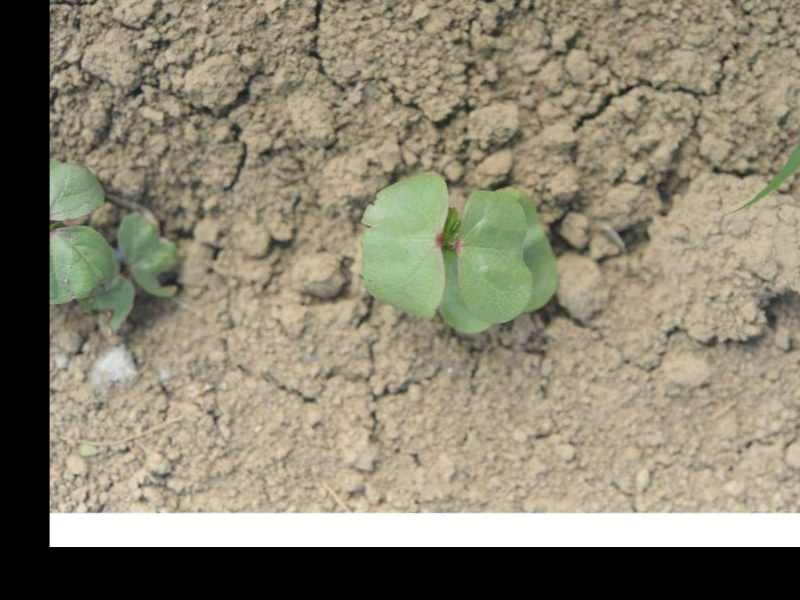cotton: (359, 171, 560, 336), (50, 161, 179, 327)
